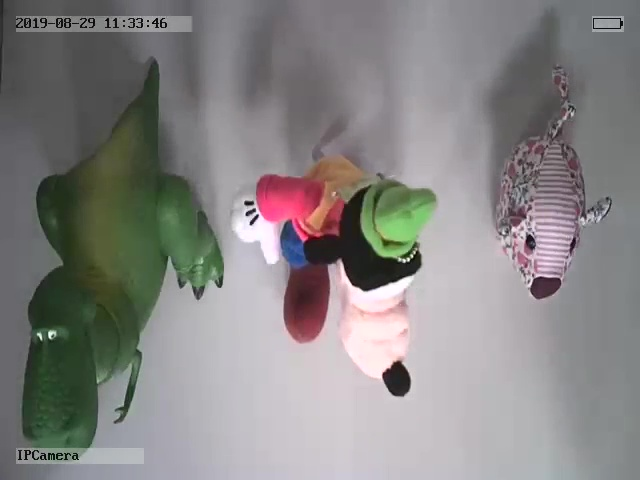goofy: (233, 155, 438, 401)
pig: (493, 65, 611, 302)
rex: (18, 56, 224, 450)
